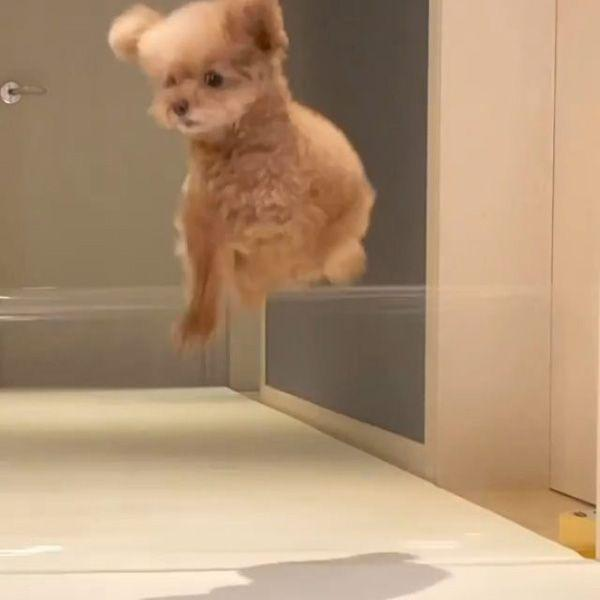adult_dog: (105, 0, 376, 356)
